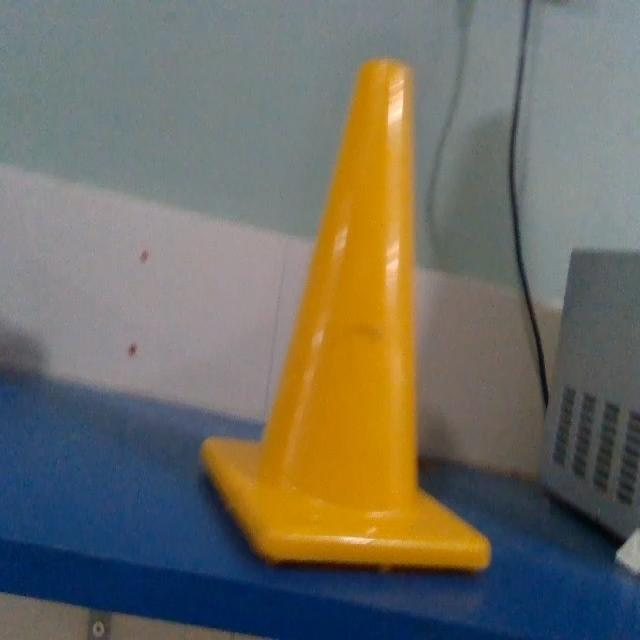cone: (200, 57, 490, 573)
